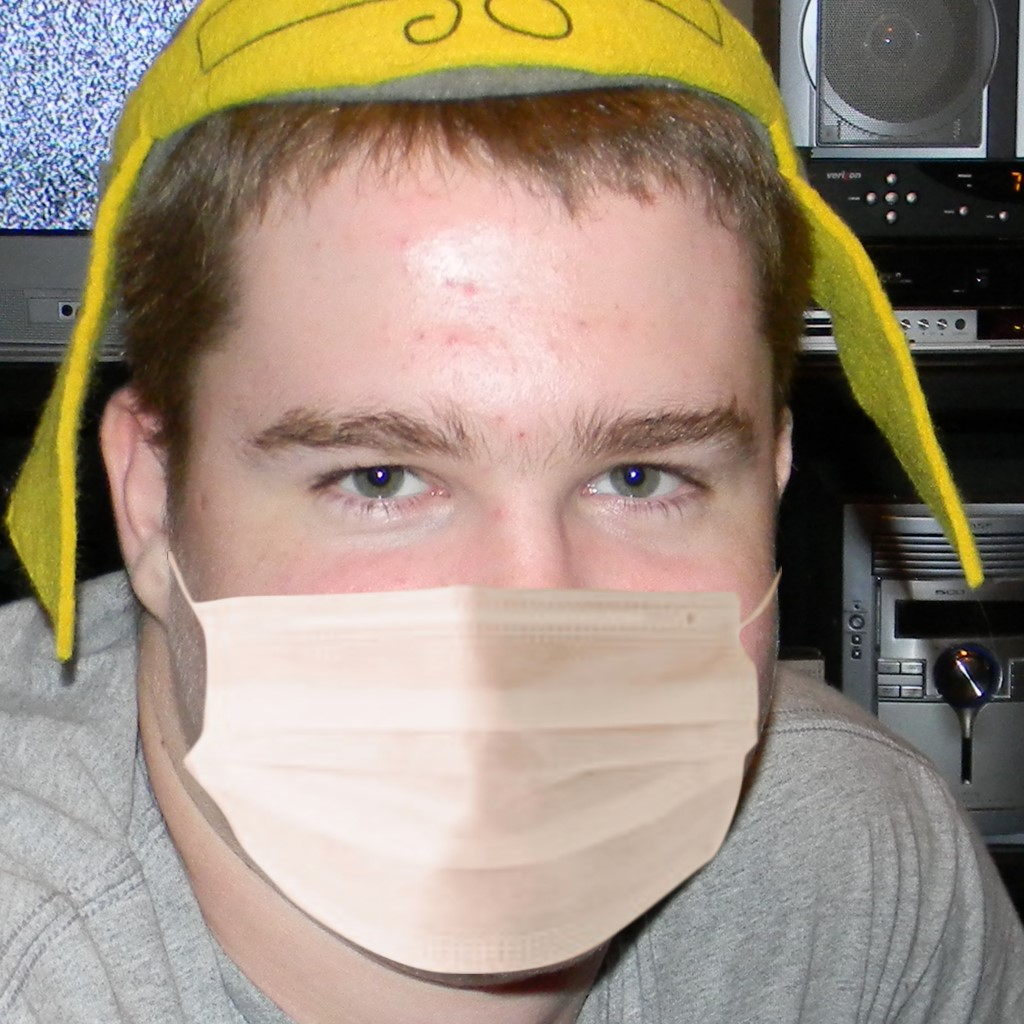con_mascara: (111, 114, 778, 977)
